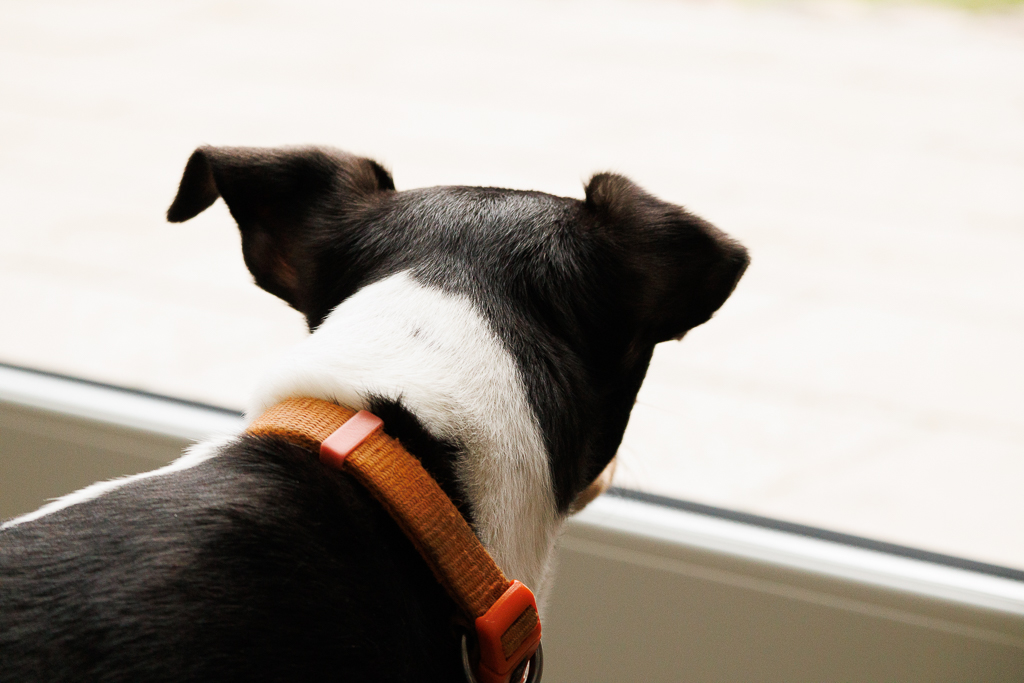Dog: (0, 138, 756, 683)
